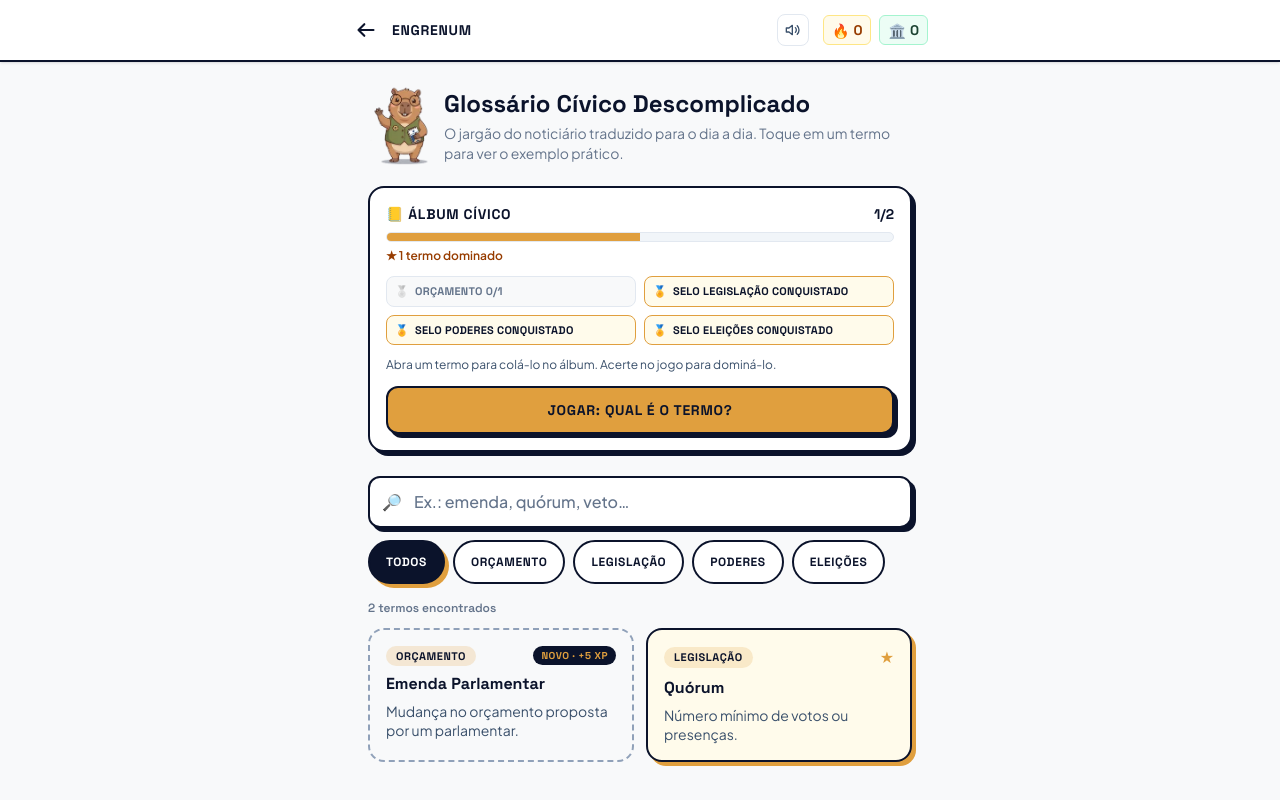
Test case: CivicGlossary › civic album › marks mastered terms with a star, also inside the dialog
Click the button "Legislação ★ Quórum Número mínimo de votos ou presenças.".
click(708, 658)  # box [646,628,912,762]
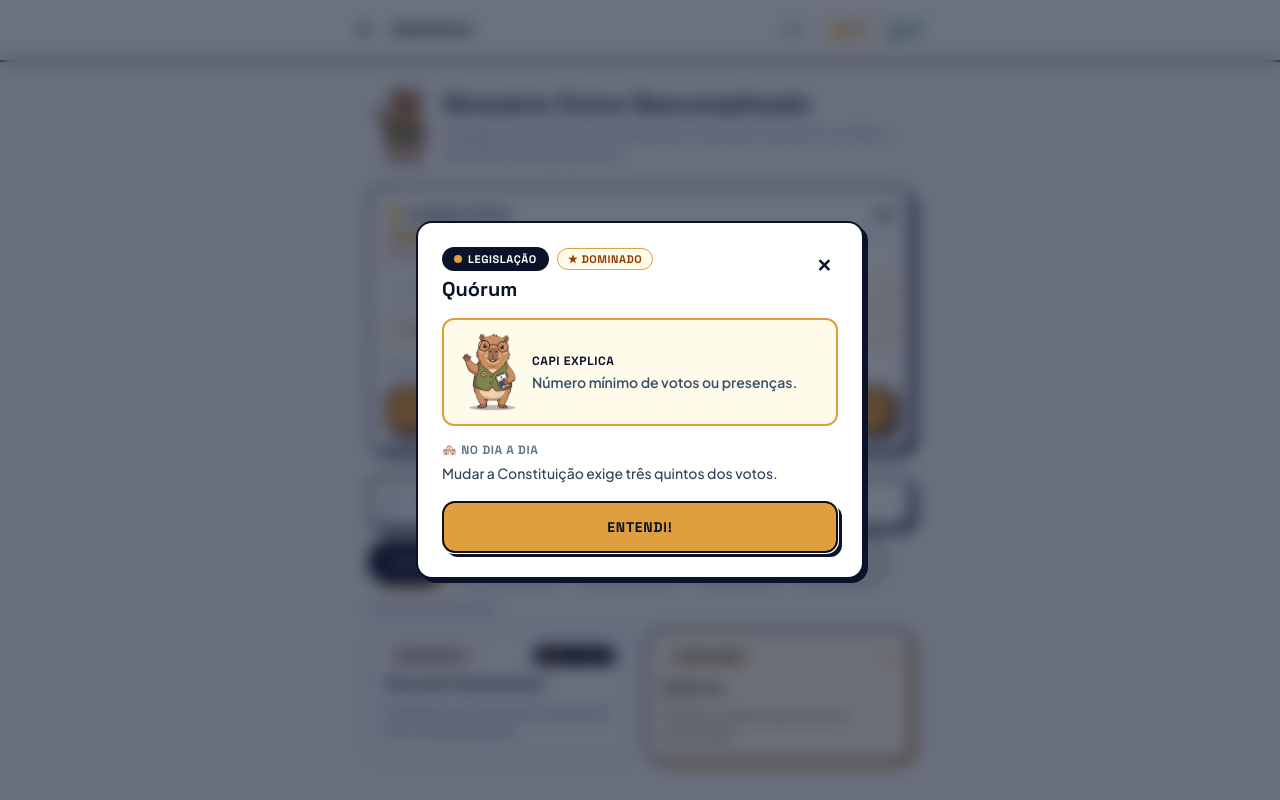
Check: the dialog does not show "Termo novo no álbum", box [416,221,864,579]
Check: the dialog shows "Dominado", box [581,252,642,266]
